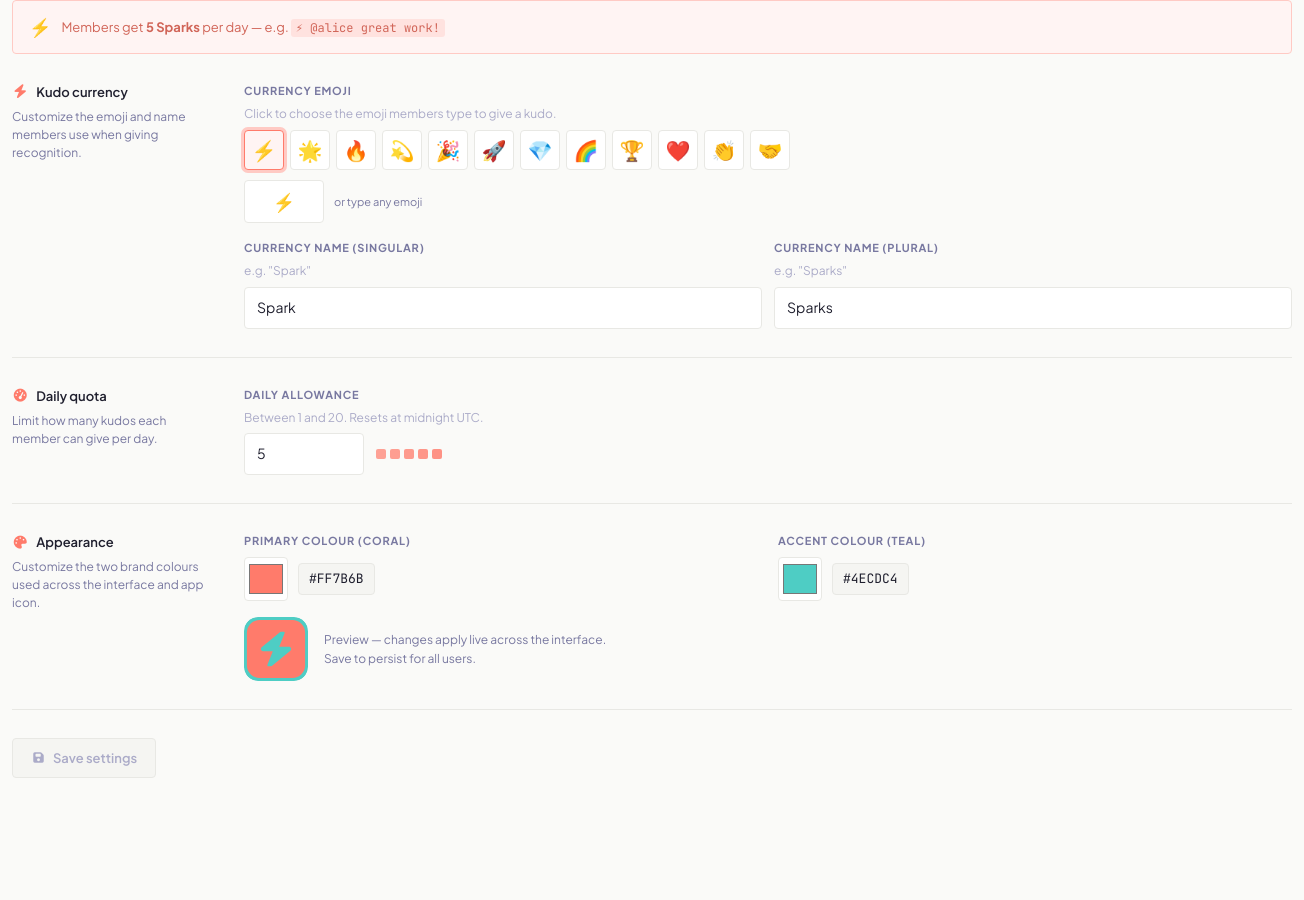
Scenario: AdminSettingsForm – validation › shows error when plural name is empty
The width and height of the screenshot is (1304, 900).
Clear the field labelled "Currency name (plural)": (1033, 308) [774,287,1292,329]
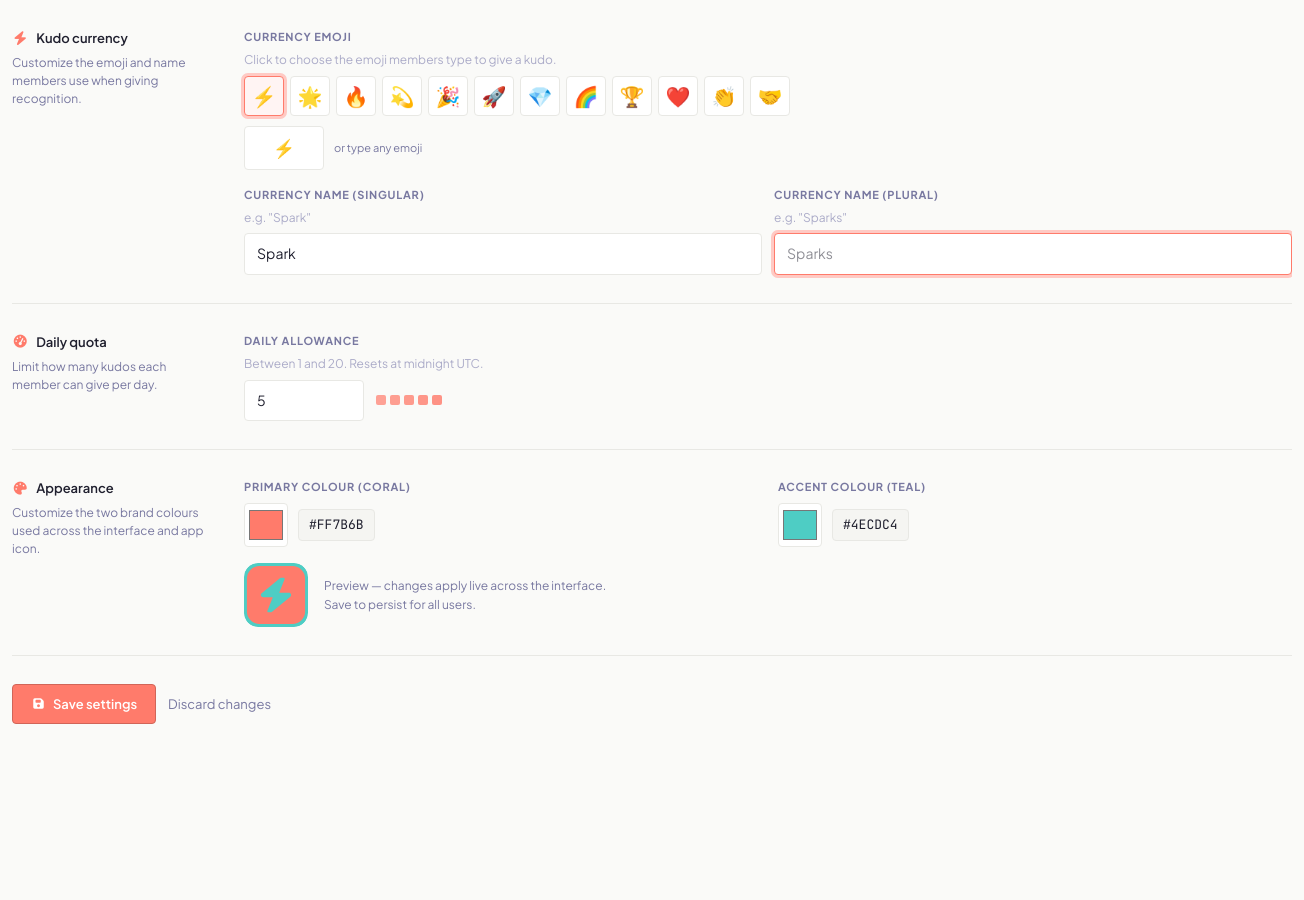
Click the button "Save settings": (84, 704) [12,684,156,724]
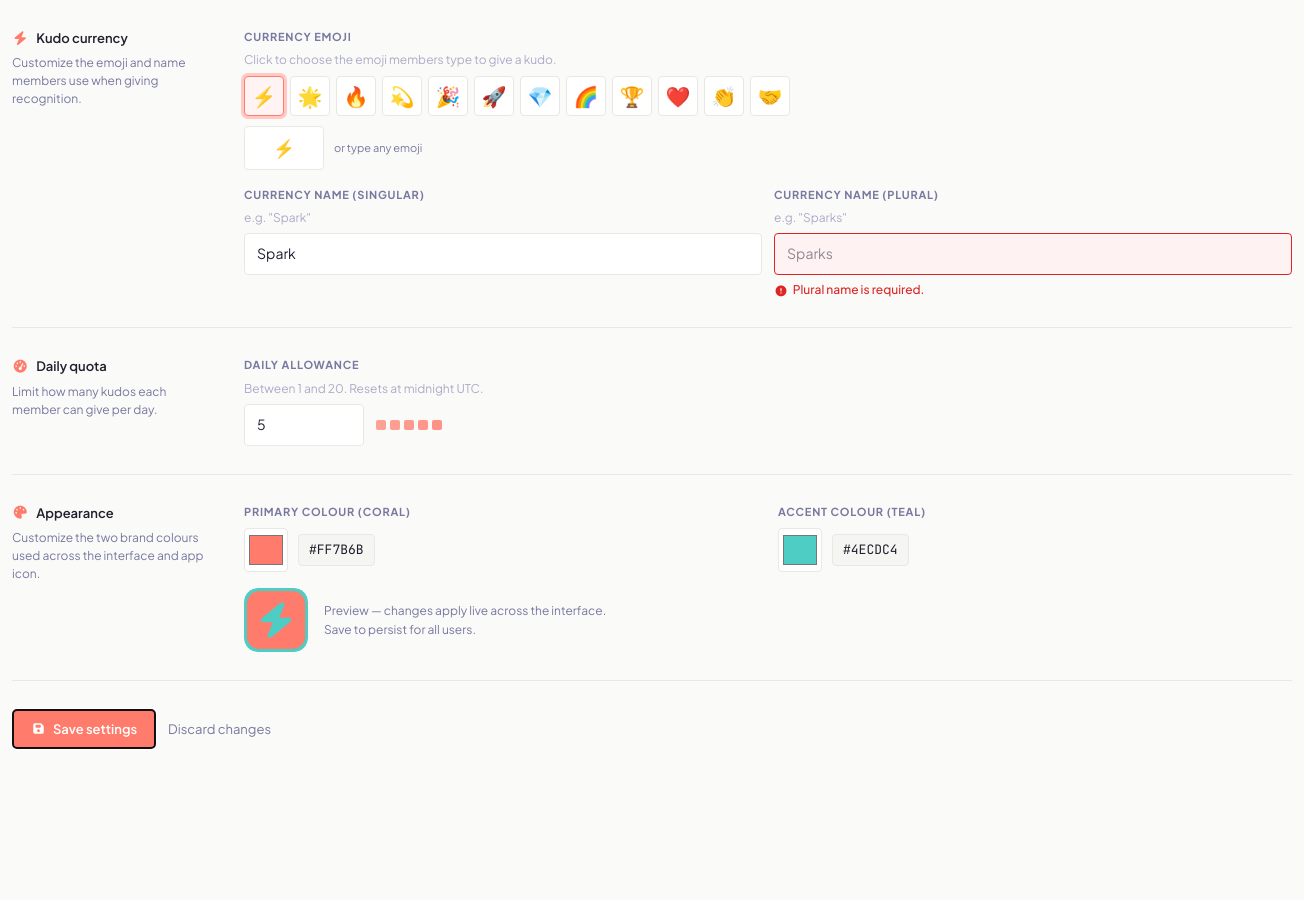
Expected: the text "Plural name is required." is shown, [774,282,924,297]
